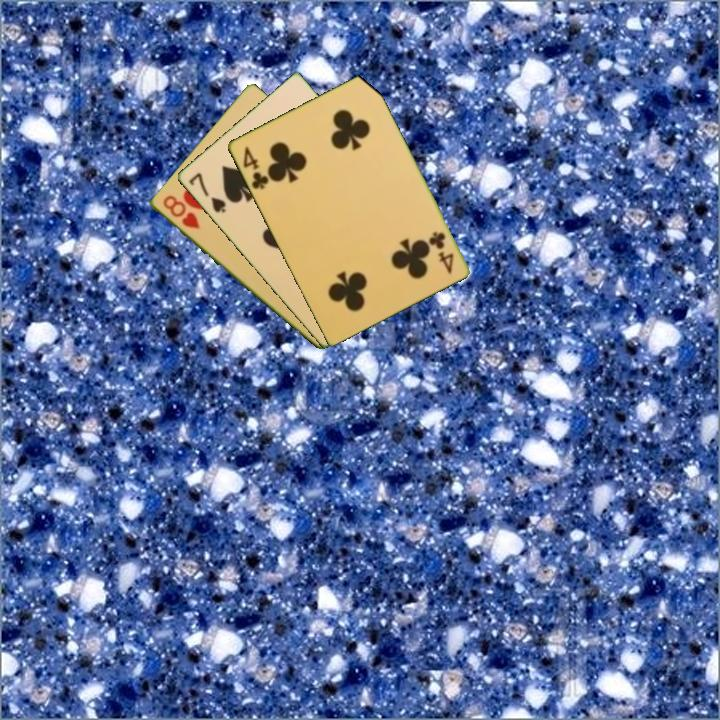4c: (239, 143, 272, 192), (425, 228, 456, 277)
7s: (185, 169, 228, 216)
8h: (159, 192, 202, 232)
